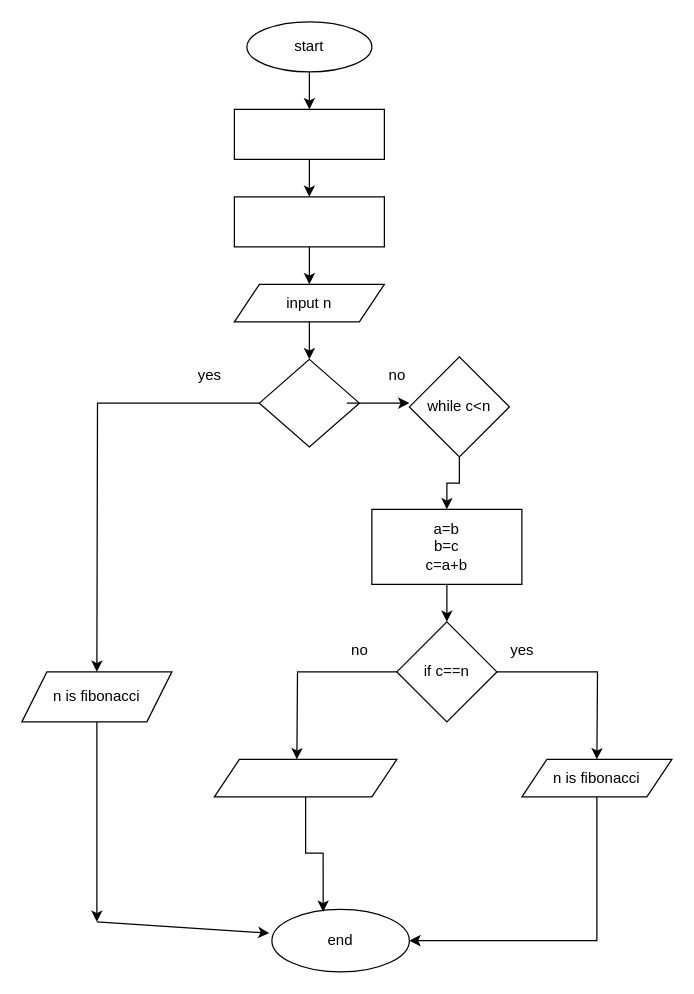
The diagram is 694 pixels wide and 994 high, and some of its shapes have lost their labels. Here are the shapes that lost their labels. From the top down, the box of each, then its label:
(233, 108, 384, 159): Declare a,b,c,n
(233, 196, 384, 247): Initialize a=1,b=1,c=0
(258, 358, 359, 447): if n=0 or n=1
(213, 758, 397, 797): n is not fibonacci
